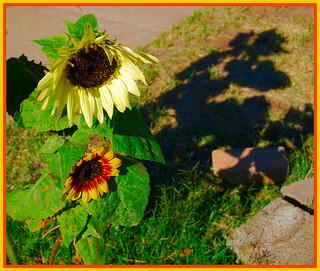sunflower: (38, 28, 159, 115), (65, 134, 120, 200)
